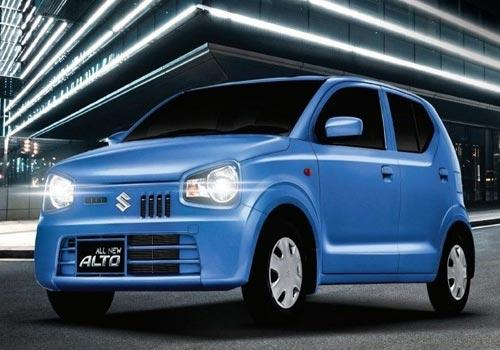Hatchback: (30, 47, 473, 350)
